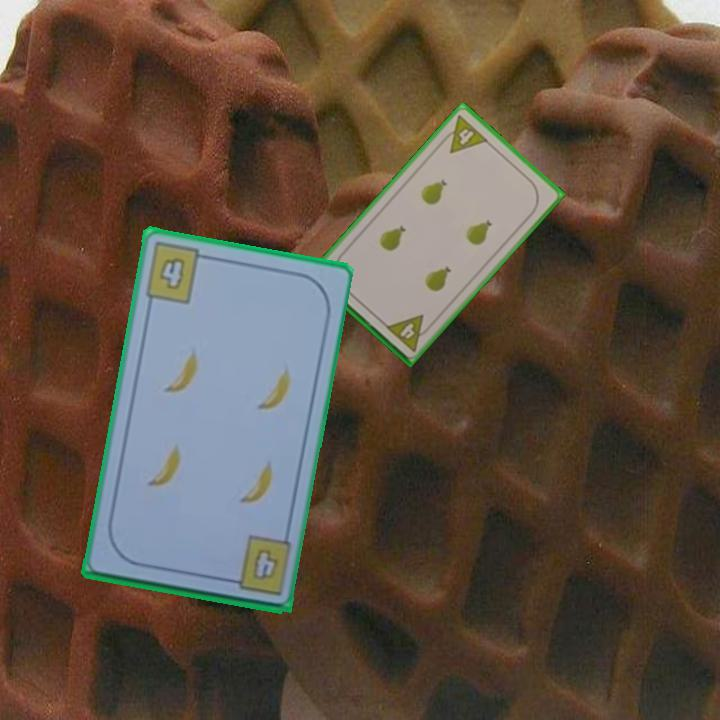4b: (140, 238, 213, 307), (248, 544, 281, 583)
4p: (436, 111, 491, 156), (382, 311, 435, 354)
